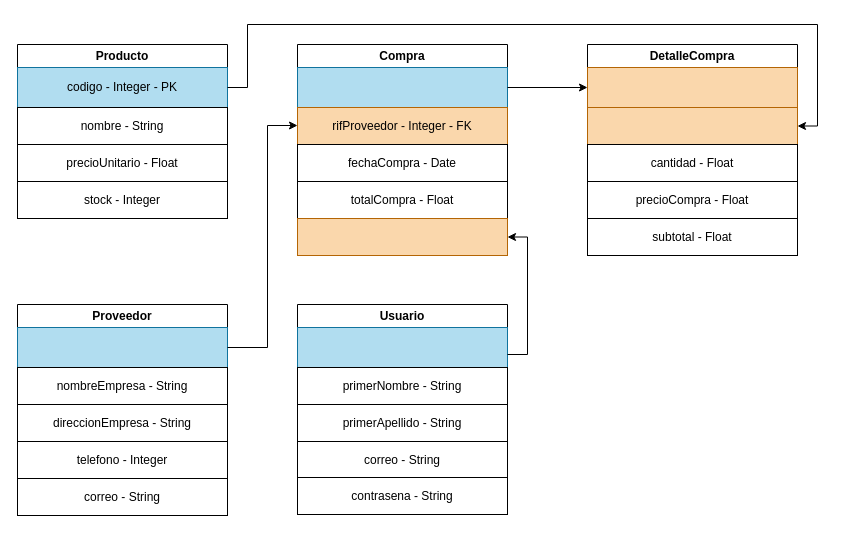
Image size: 843x533. Some labels were removed from this diagram. Here are the shapes that lost their labels. From the top down, the centre of each, then its label:
At point 402,87: "idCompra - Integer - PK".
At point 692,87: "idCompra - Integer - PK - FK".
At point 692,125: "codigoProducto - Integer - FK".
At point 402,237: "cedulaUsuario - Integer - FK".
At point 122,347: "rif - Integer - PK".
At point 402,347: "cedula - Integer - PK".
